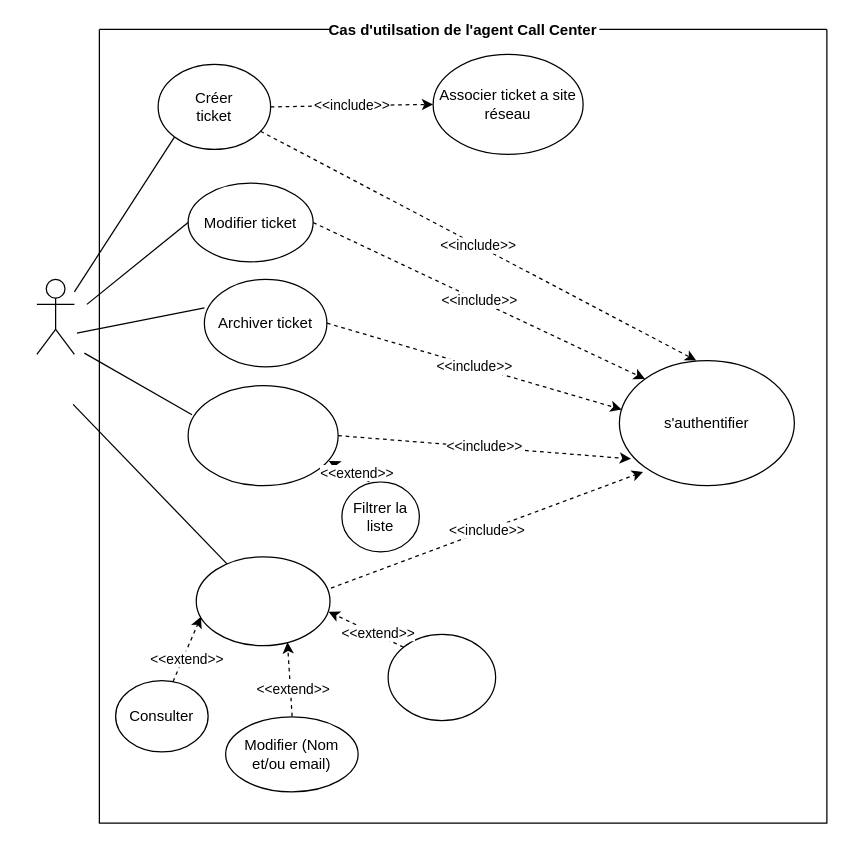
Some shapes in this 849 by 845 pixel diagram are drawn without their labels. Each missing label, with the centre of its shape:
Agent Call Center: (x=55, y=316)
Changer mot de passe: (x=441, y=677)
Consulter la liste des ticket: (x=262, y=435)
Gérer profile: (x=262, y=601)
